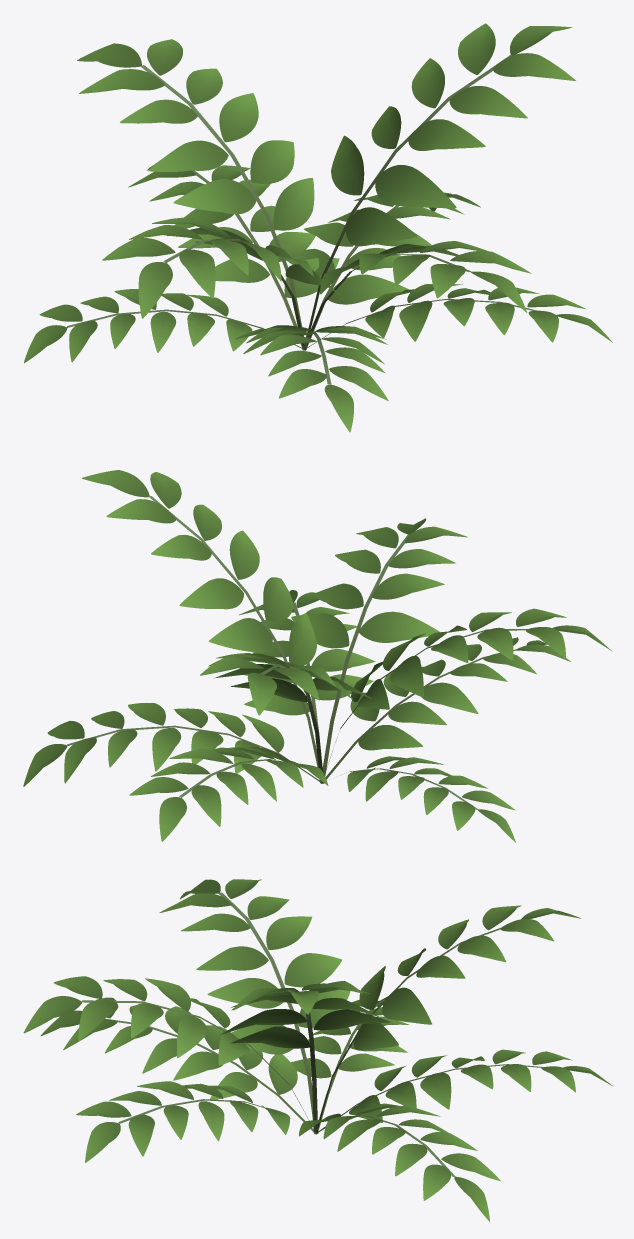
Rendered from Plant_08.fbx.
The picture shows the model from 3 angles, top to bottom: view 1: azimuth 30°, elevation 25°; view 2: azimuth 150°, elevation 25°; view 3: azimuth 270°, elevation 25°; orthographic projection. The views are drawn at different scales.
Visible parts, largest first — view 1: Plant_08_LOD0; view 2: Plant_08_LOD0; view 3: Plant_08_LOD0.
Part boxes in pixels (<box>): Plant_08_LOD0: <box>24,23,612,432</box>; Plant_08_LOD0: <box>23,470,612,842</box>; Plant_08_LOD0: <box>23,879,613,1221</box>.
Size of what is drawn, in the model's own units: 0.5209 by 0.2607 by 0.5833.
